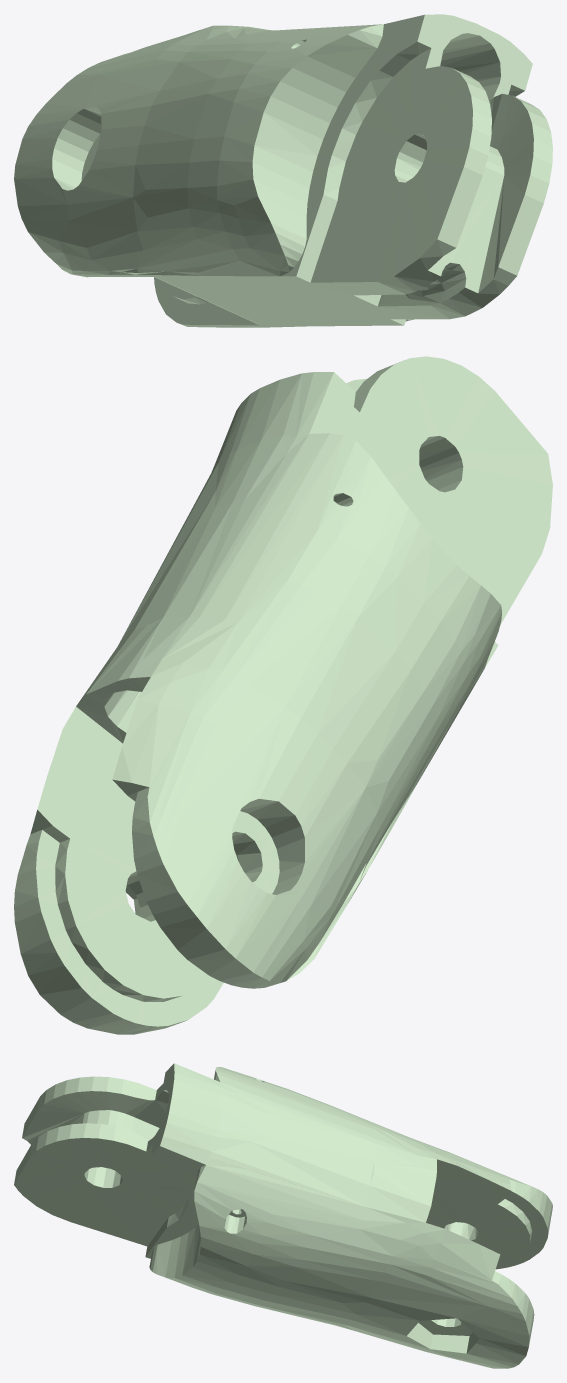
Rendered from i02_leftHand_ringFingerPhal_visual.obj.light.glb.
3 renders of one model, top to bottom at view 1: azimuth 30°, elevation 25°; view 2: azimuth 150°, elevation 25°; view 3: azimuth 270°, elevation 25°, orthographic. The views are drawn at different scales.
Bounding box in the file's own units: 0.2135 × 0.323 × 0.5002.
